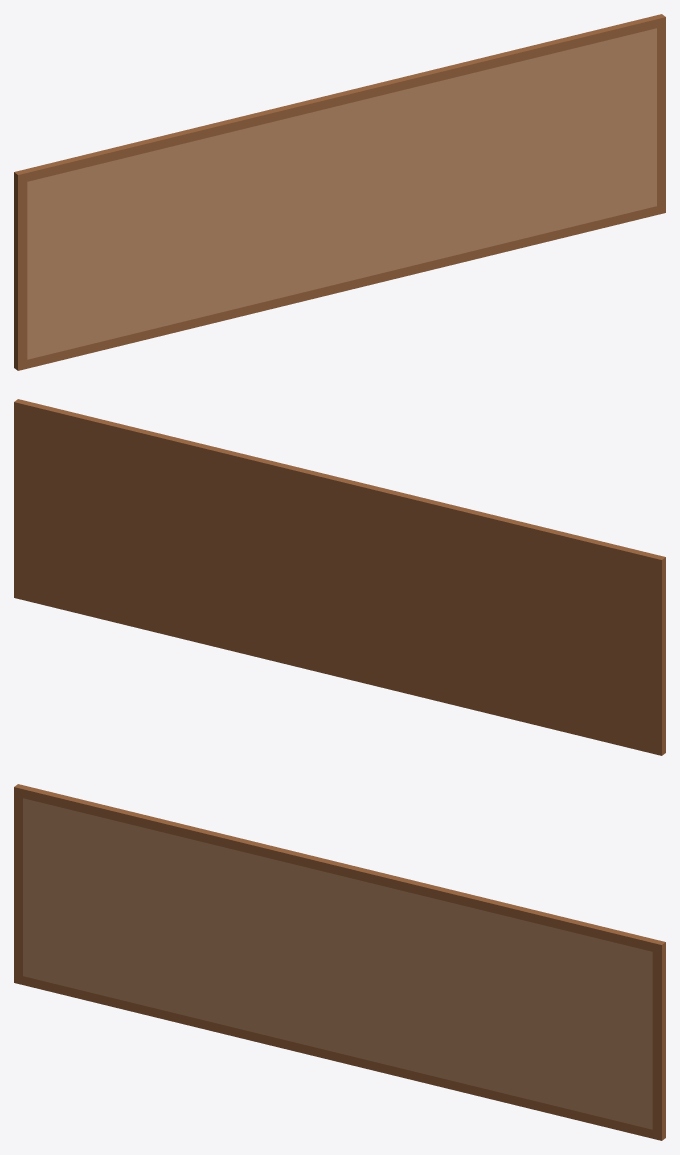
The model's file is scene_BulletinBoards.fbx.
The picture shows the model from 3 angles, top to bottom: view 1: azimuth 30°, elevation 25°; view 2: azimuth 150°, elevation 25°; view 3: azimuth 330°, elevation 25°; orthographic projection.
Visible parts, largest first — view 1: BulletinBoards; view 2: BulletinBoards; view 3: BulletinBoards.
Boxes of the visible parts, x1,y1,x2,y2 form: BulletinBoards: (14,14,665,370); BulletinBoards: (14,399,665,755); BulletinBoards: (14,784,665,1140).
Bounding box in the file's own units: 900 × 260 × 10.
